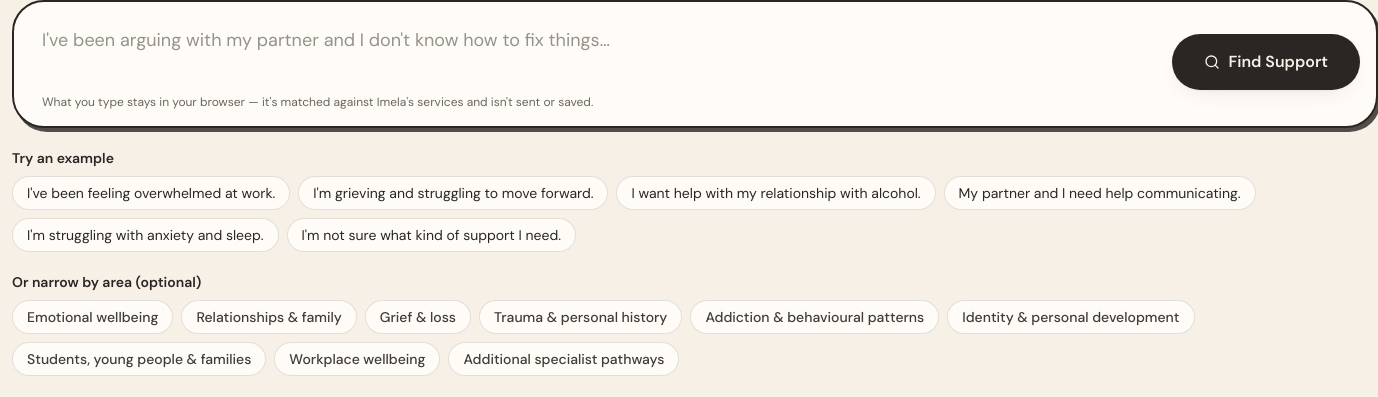
Scenario: NeedFinder › asks for input instead of searching on empty submit
The width and height of the screenshot is (1378, 397).
Click the button "Find Support": (1266, 62) [1172, 34, 1360, 90]
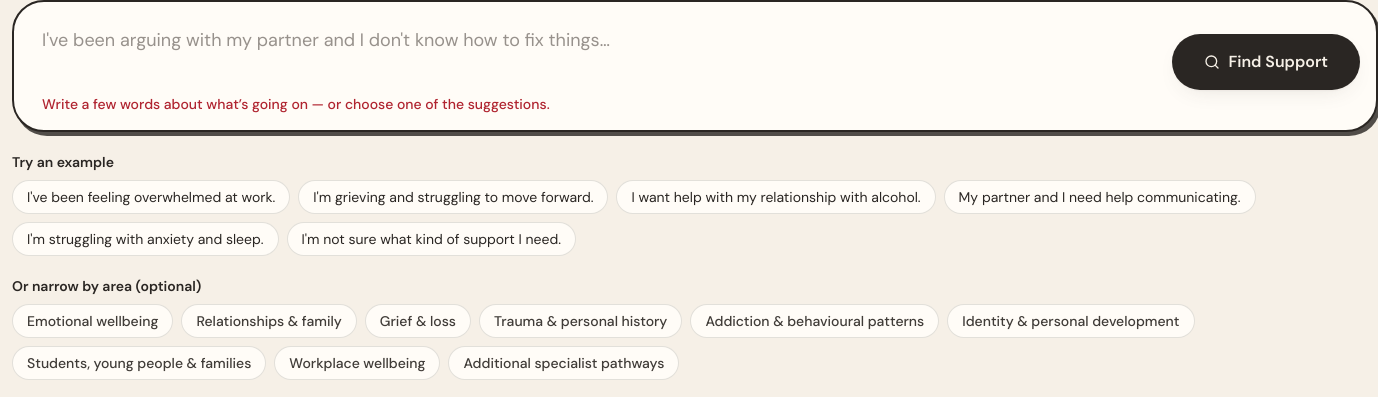
Now the text "Write a few words" is shown, box [42, 95, 550, 113]
